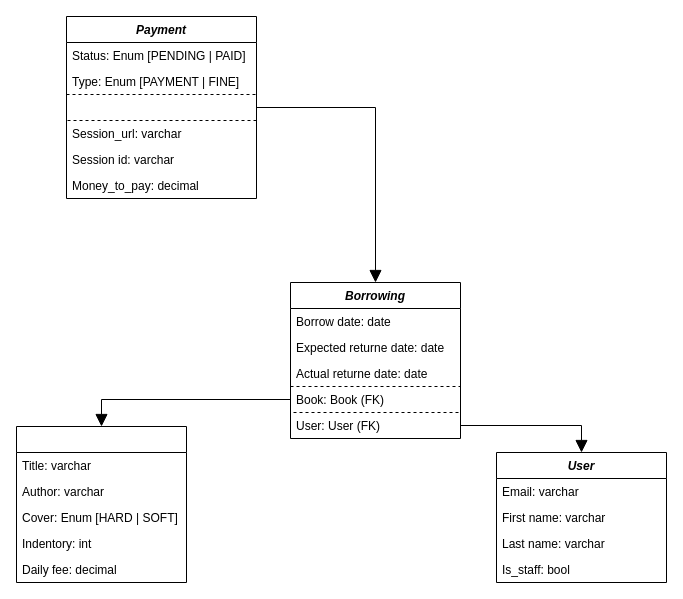
Some shapes in this 683 by 599 pixel diagram are drawn without their labels. The shapes that lost their labels are listed below. From the top down, each one's box as (x1, y1, x2, y2) in pixels, then its label:
(66, 94, 256, 120): Borrow: Borrowing (FK)
(16, 426, 186, 582): Book
